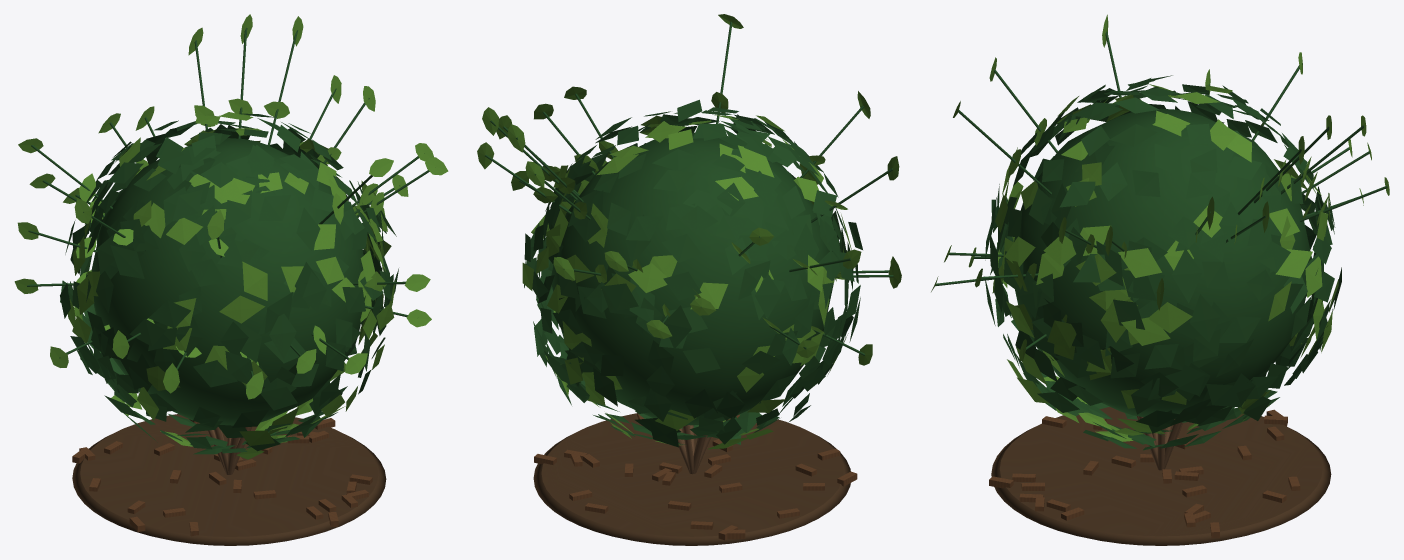
File: BoxwoodShrub.gltf
3 views of the same model, side by side, from view 1: azimuth 30°, elevation 25°; view 2: azimuth 150°, elevation 25°; view 3: azimuth 270°, elevation 25° (orthographic). The views are drawn at different scales.
Visible parts, largest first — view 1: BoxwoodShrub__Body, BoxwoodShrub__Overgrowth; view 2: BoxwoodShrub__Body, BoxwoodShrub__Overgrowth; view 3: BoxwoodShrub__Body, BoxwoodShrub__Overgrowth.
Boxes of the visible parts, left/top/right/bottom form: BoxwoodShrub__Body: left=60, top=112, right=398, bottom=545; BoxwoodShrub__Overgrowth: left=14, top=14, right=448, bottom=399; BoxwoodShrub__Body: left=522, top=99, right=862, bottom=545; BoxwoodShrub__Overgrowth: left=477, top=14, right=901, bottom=365; BoxwoodShrub__Body: left=985, top=75, right=1341, bottom=545; BoxwoodShrub__Overgrowth: left=931, top=14, right=1389, bottom=361.
Size of the model in its own units: 0.812 by 0.812 by 0.812.
Materials: 1 (1 with a texture image).
